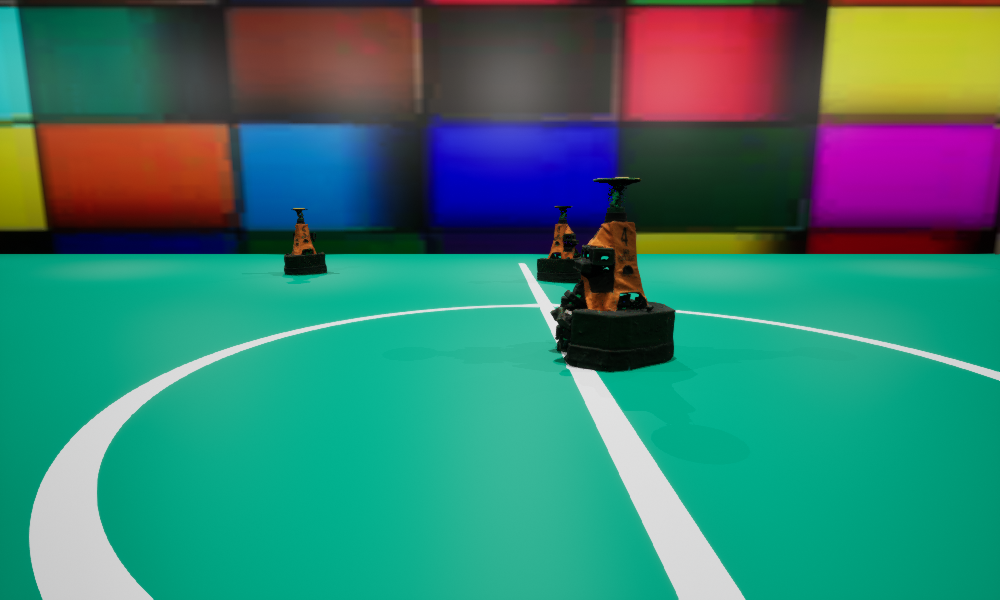0 orange robot TechUnited: (550, 177, 674, 370), (537, 206, 580, 282), (284, 208, 326, 274)
